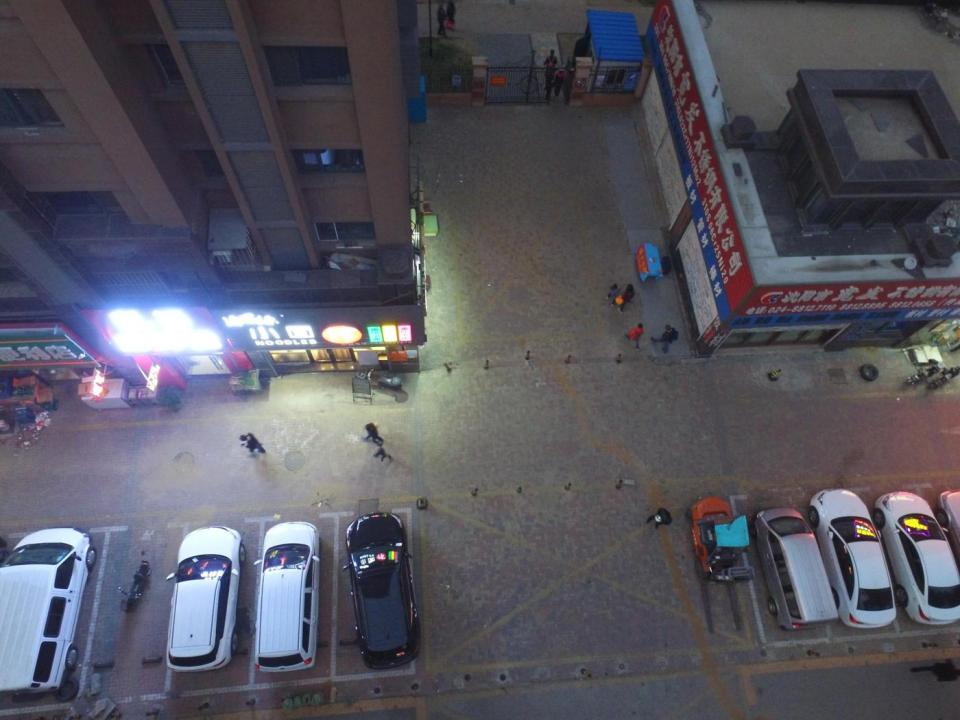car: (812, 488, 902, 630), (344, 510, 423, 671), (875, 488, 960, 624), (168, 526, 244, 678)
van: (0, 527, 97, 703), (758, 507, 838, 634), (260, 522, 321, 673)
